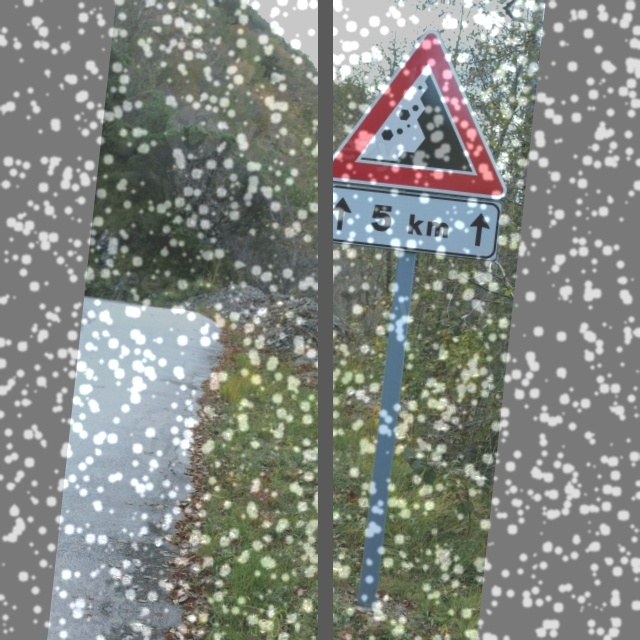Falling_Rocks: (323, 23, 520, 199)
